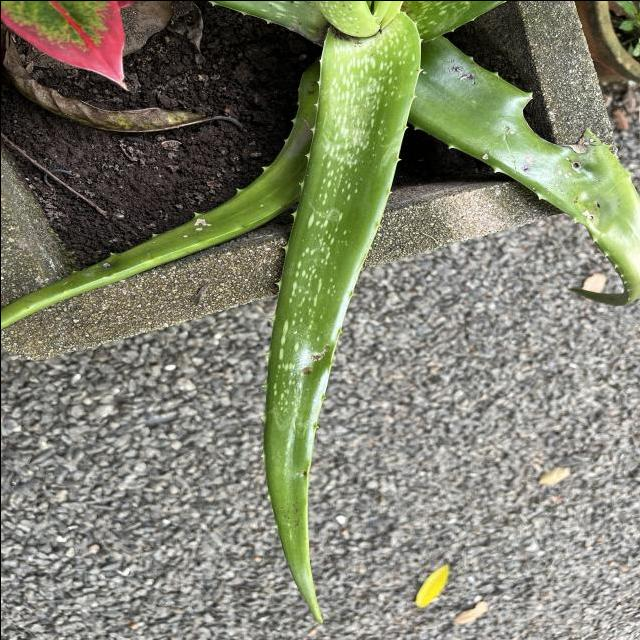Aloe vera: (255, 7, 430, 627)
